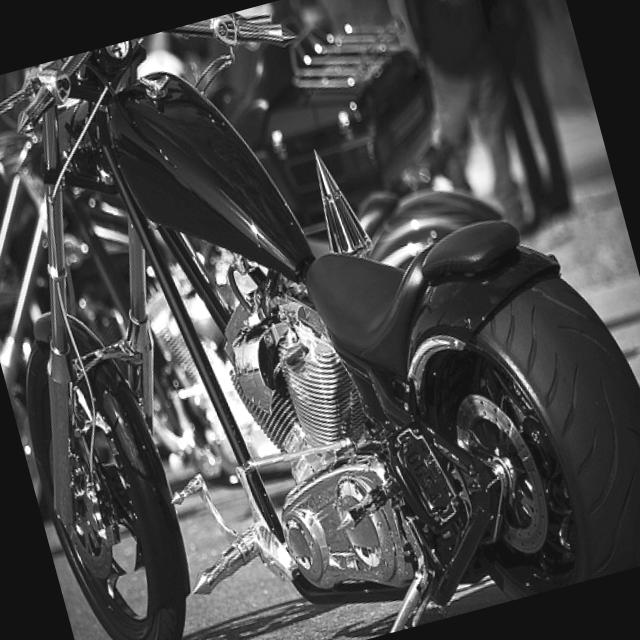Vehicle: (0, 0, 640, 640), (0, 0, 567, 555)
